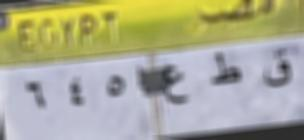4: (62, 75, 95, 119)
5: (101, 73, 132, 104)
6: (22, 76, 50, 113)
Taa: (205, 47, 246, 94)
ain: (158, 57, 194, 113)
qaaf: (260, 44, 296, 94)
